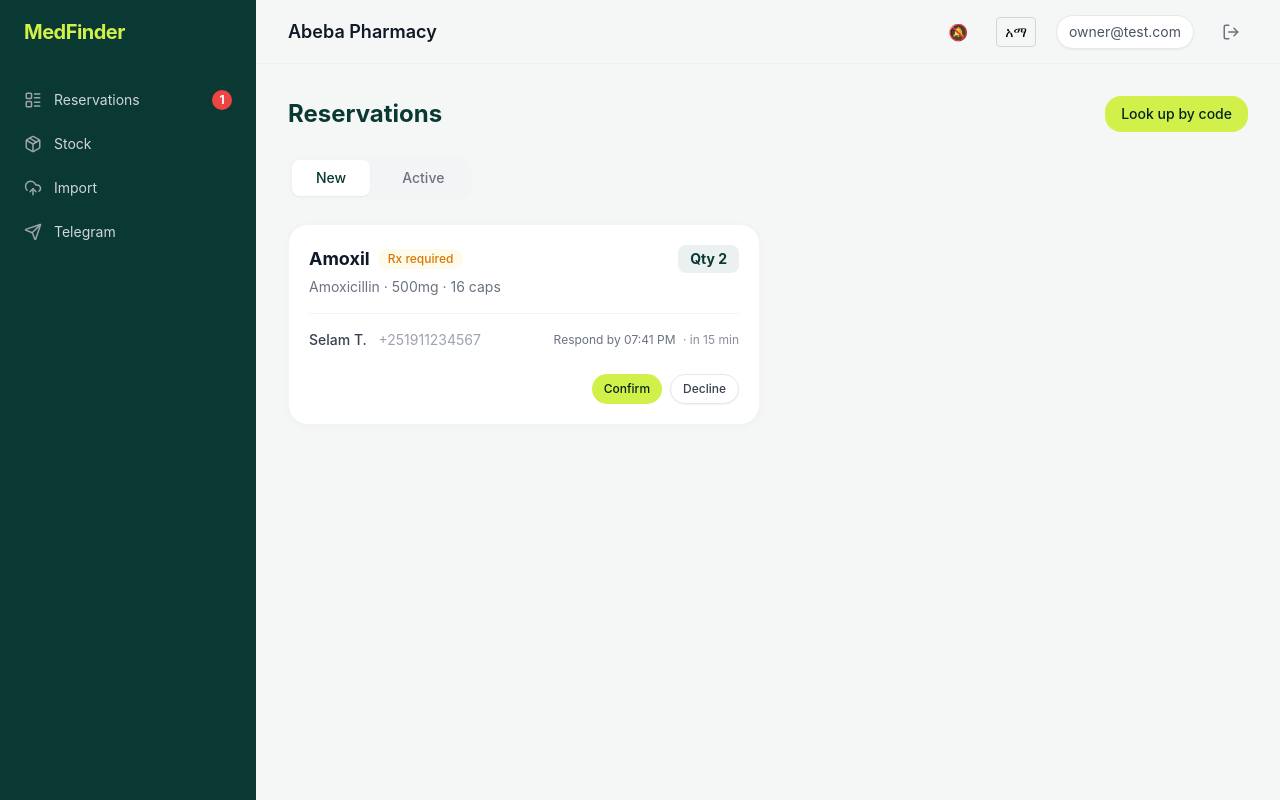
ReservationsPage › switches to the Active tab when clicked
Expected: the text "Amoxil" is shown, [309,248,370,269]
Click the tab "Active": (423, 178) [378,160,468,196]
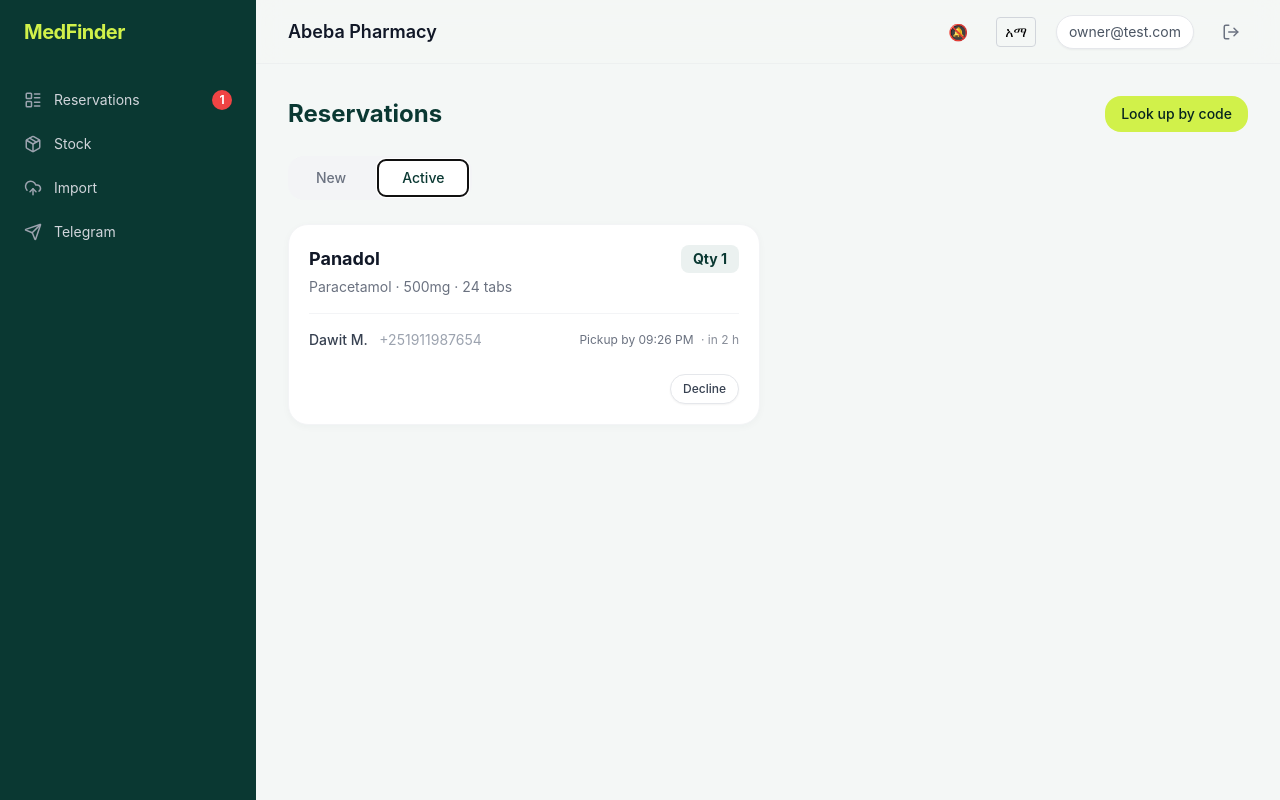
Now the text "Panadol" is shown, box [309,248,380,269]
Now the text "Dawit M." is shown, box [309,331,368,348]
Now the text "Amoxil" is gone
